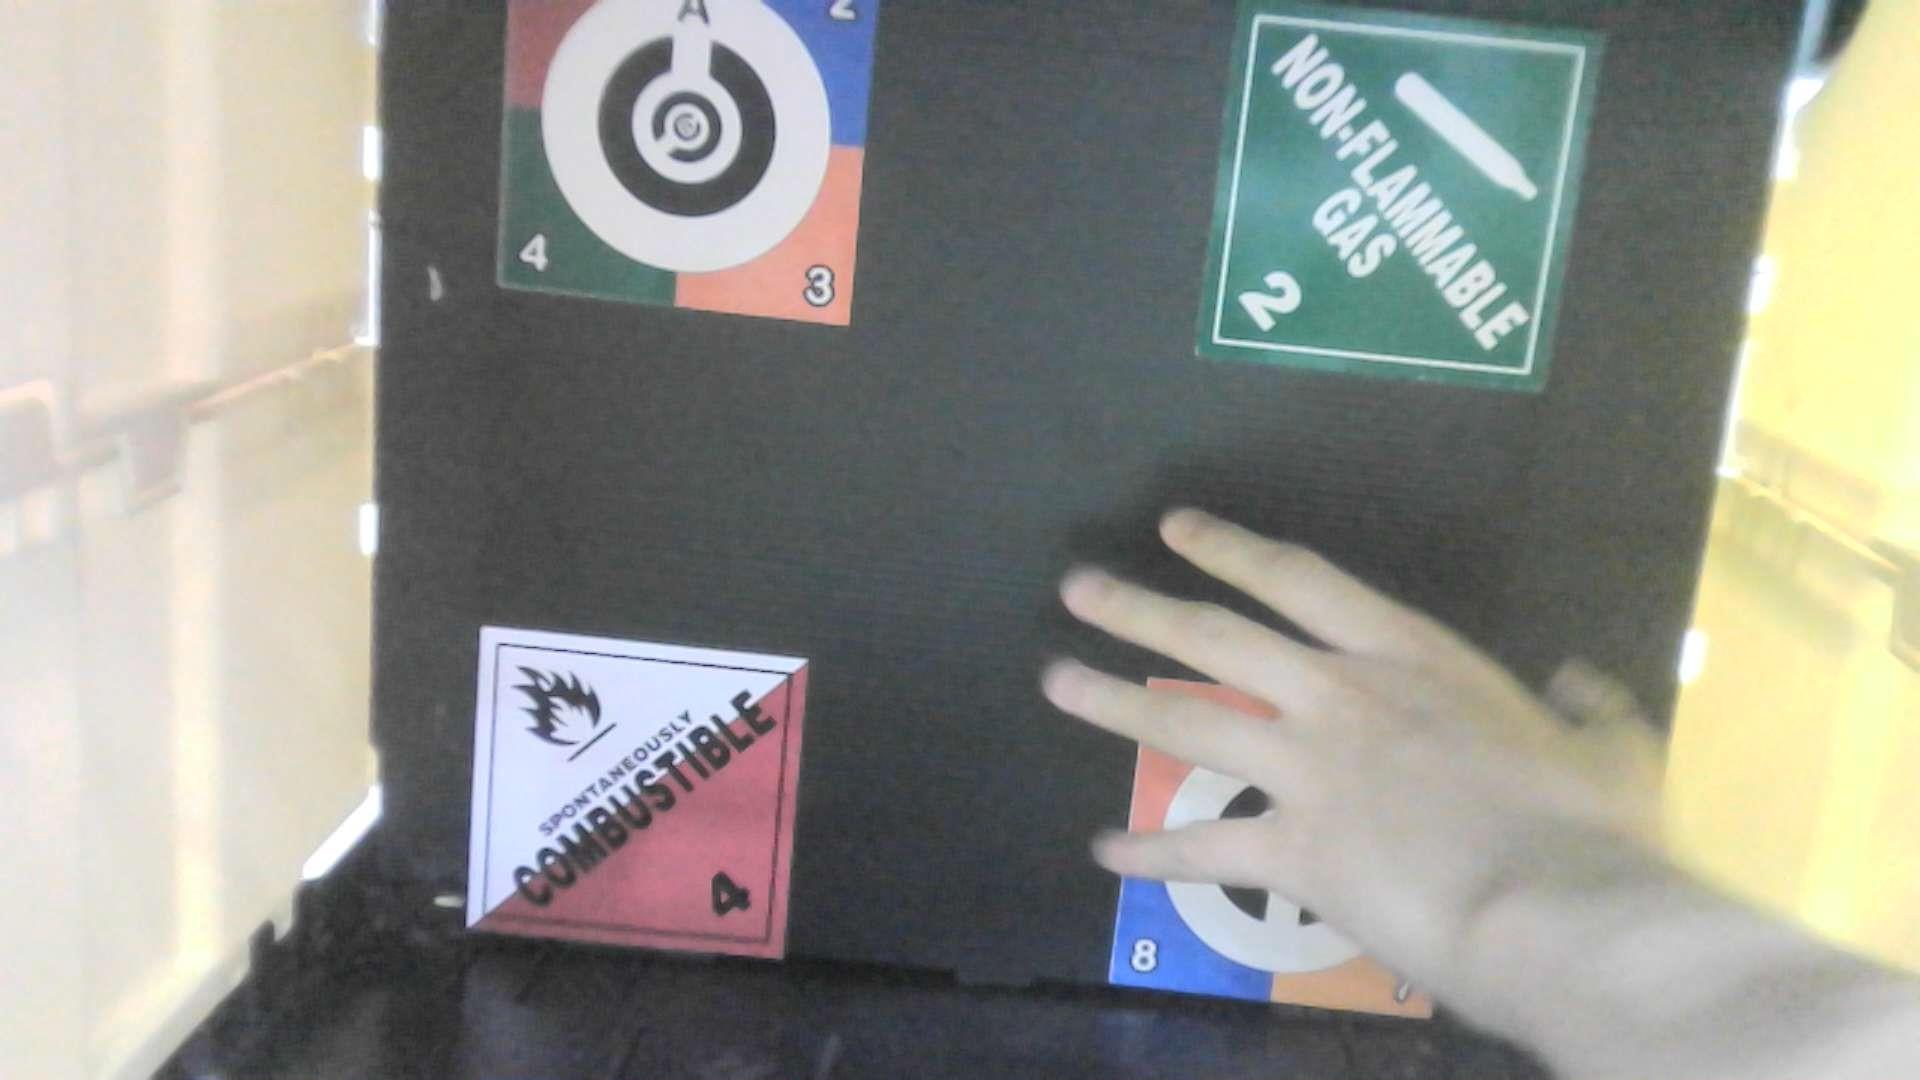non-flammable-gas: (1179, 1, 1630, 415)
spontaneously-combustible: (429, 611, 837, 978)
